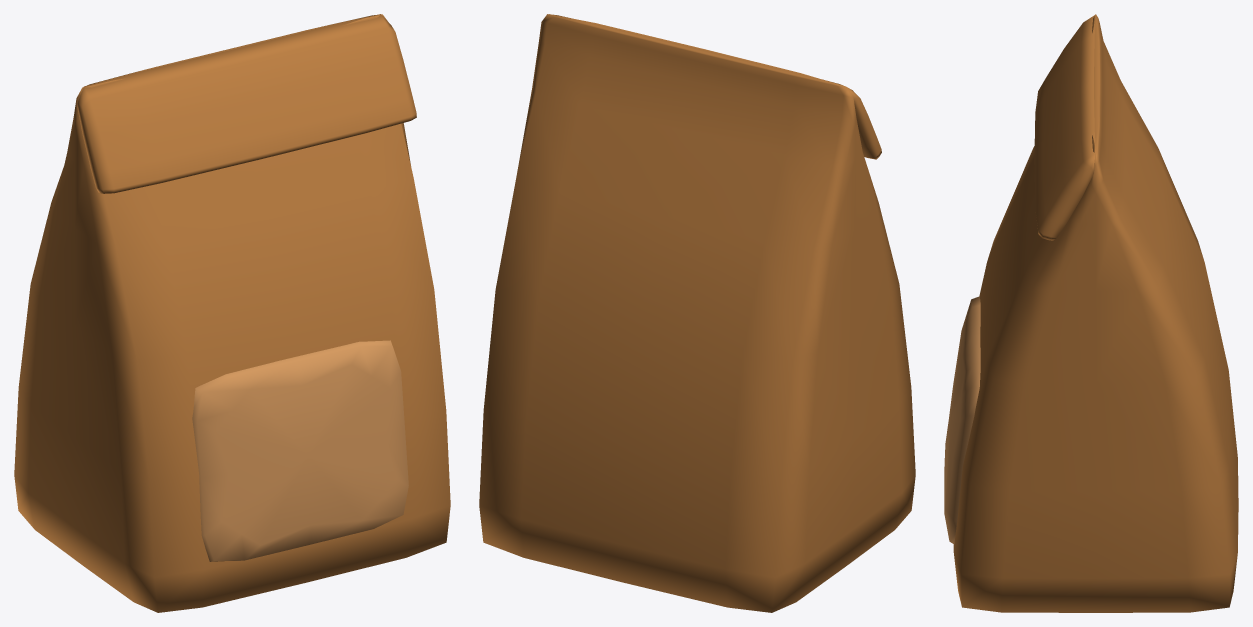
Rendered from SM_coffee_pack_yellow.fbx.
3 views of the same model, side by side, from view 1: azimuth 30°, elevation 25°; view 2: azimuth 150°, elevation 25°; view 3: azimuth 270°, elevation 25° (orthographic). The views are drawn at different scales.
Parts seen in each view (by area): view 1: SM_coffee_pack_yellow; view 2: SM_coffee_pack_yellow; view 3: SM_coffee_pack_yellow.
Part boxes in pixels (x1,y1,x2,y2): SM_coffee_pack_yellow: (14, 14, 450, 612); SM_coffee_pack_yellow: (479, 14, 915, 612); SM_coffee_pack_yellow: (944, 14, 1238, 612).
Size of the model in its own units: 26.54 by 39.41 by 22.38.
1 material, 1 textured.
